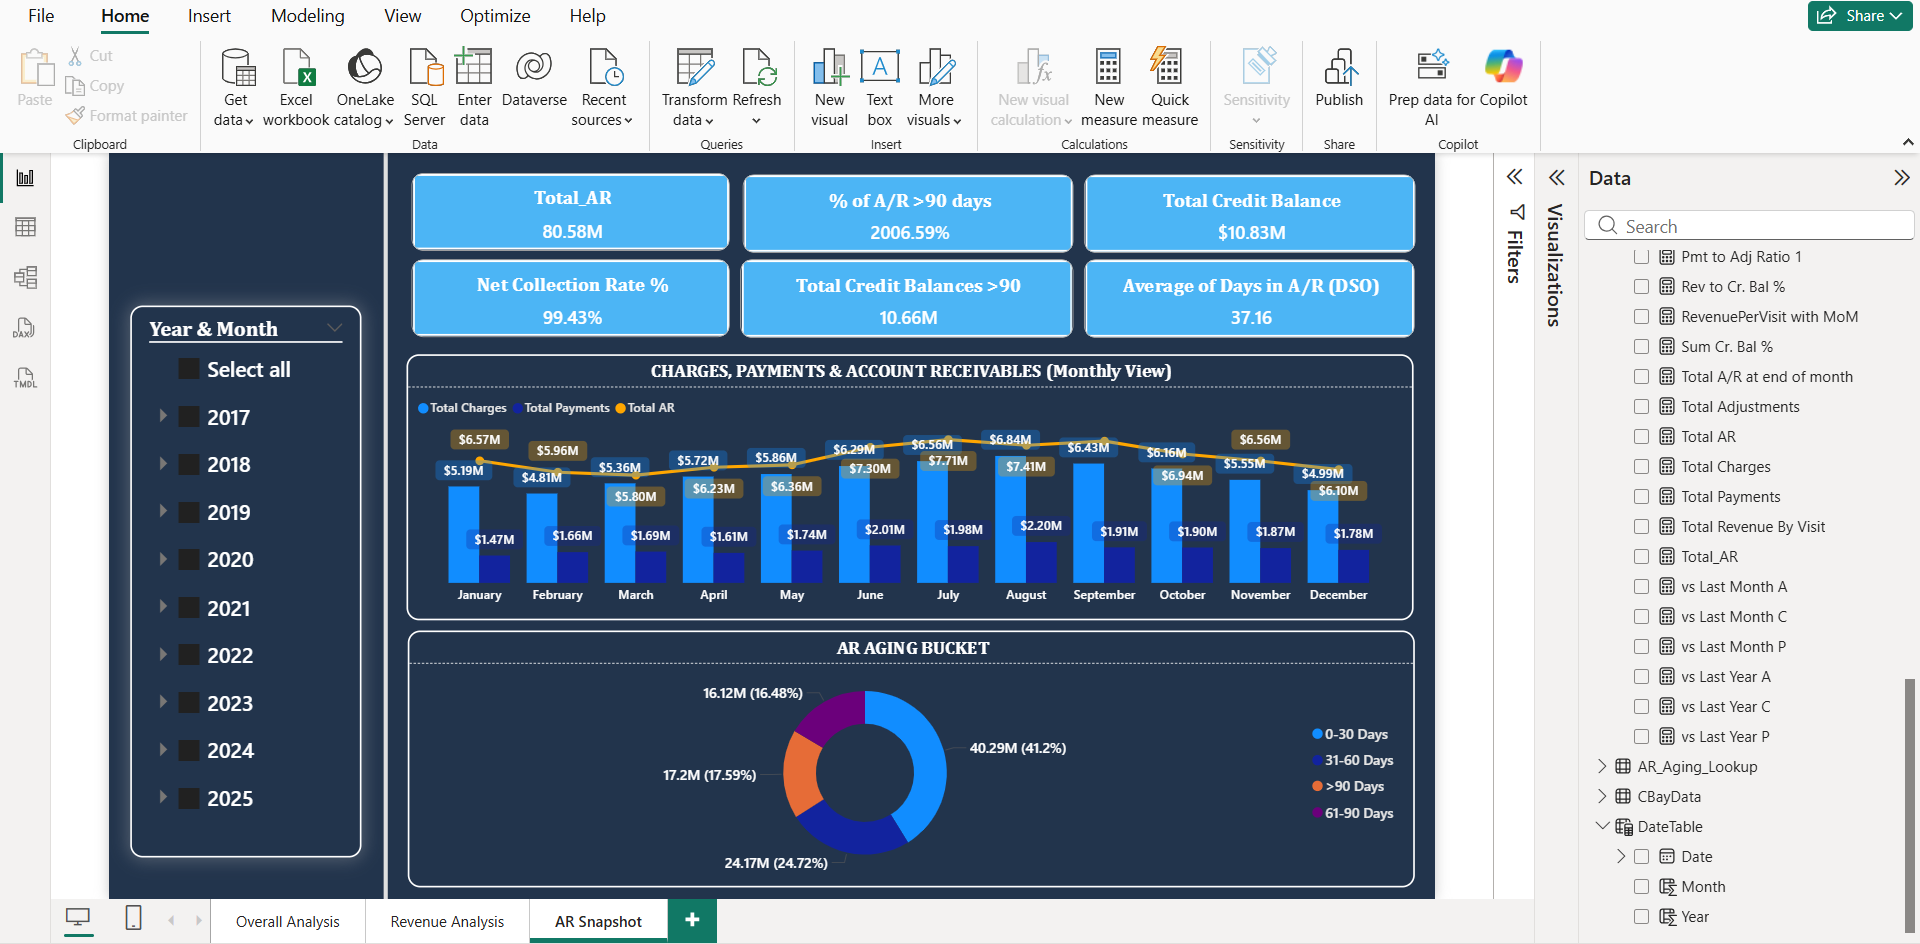

Layout of this report page (visuals, bound fields, positions):
{"tool":"powerbi","page":{"name":"AR Snapshot","canvas":[1280,720],"ordinal":2},"visuals":[{"type":"cardVisual","title":"TOTAL CHARGES","fields":{"Data":["CBayData.Total_AR"]},"box":[287.7,19.8,317.5,90.7],"z":0},{"type":"slicer","fields":{"Values":["DateTable.Date.Variation.Date Hierarchy.Year","DateTable.Date.Variation.Date Hierarchy.Month"]},"box":[20.1,147.2,223.1,533.1],"z":1000},{"type":"cardVisual","title":"TOTAL CHARGES","fields":{"Data":["Avg(CBayData.Days in A/R (DSO))"]},"box":[936,102.2,329.8,91],"z":2000},{"type":"cardVisual","title":"TOTAL CHARGES","fields":{"Data":["Sum(CBayData.% A/R over 90 days)"]},"box":[606.2,20.2,329.8,91],"z":3000},{"type":"cardVisual","title":"TOTAL CHARGES","fields":{"Data":["CBayData.Sum Cr. Bal %"]},"box":[936,20.2,330,91],"z":4000},{"type":"cardVisual","title":"TOTAL CHARGES","fields":{"Data":["CBayData.Net Collection Rate %"]},"box":[287.7,102,317.5,90.7],"z":5000},{"type":"cardVisual","title":"TOTAL CHARGES","fields":{"Data":["Sum(CBayData.Credit Balances >90 (Cr. Bal>90))"]},"box":[604.8,102.2,331.2,91],"z":6000},{"type":"lineClusteredColumnComboChart","title":"CHARGES, PAYMENTS & ACCOUNT RECEIVABLES (Monthly View)","fields":{"Category":["DateTable.Date.Variation.Date Hierarchy.Year","DateTable.Date.Variation.Date Hierarchy.Month"],"Y":["CBayData.Total Charges","CBayData.Total Payments"],"Y2":["CBayData.Total AR"]},"box":[286.8,194.1,971.8,256.9],"z":7000},{"type":"shape","box":[260.6,0,13,720],"z":8000},{"type":"donutChart","title":"AR AGING BUCKET","fields":{"Category":["AR_Aging_Lookup.Aging Bucket"],"Y":["CBayData.AR Aging Bucket Value"]},"box":[288.2,460.9,971.8,248.3],"z":9000}]}

Visuals, with their boxes on the page's 1280x720 design canvas (x1, y1, x2, y2). These are canvas units, not pixel positions in the 1920x944 screenshot, which may show the page scaled, cropped or inside an application window:
"TOTAL CHARGES" cardVisual: (left=288, top=20, right=605, bottom=110)
slicer - DateTable.Date.Variation.Date Hierarchy.Year x DateTable.Date.Variation.Date Hierarchy.Month: (left=20, top=147, right=243, bottom=680)
"TOTAL CHARGES" cardVisual: (left=936, top=102, right=1266, bottom=193)
"TOTAL CHARGES" cardVisual: (left=606, top=20, right=936, bottom=111)
"TOTAL CHARGES" cardVisual: (left=936, top=20, right=1266, bottom=111)
"TOTAL CHARGES" cardVisual: (left=288, top=102, right=605, bottom=193)
"TOTAL CHARGES" cardVisual: (left=605, top=102, right=936, bottom=193)
"CHARGES, PAYMENTS & ACCOUNT RECEIVABLES (Monthly View)" lineClusteredColumnComboChart: (left=287, top=194, right=1259, bottom=451)
shape: (left=261, top=0, right=274, bottom=720)
"AR AGING BUCKET" donutChart: (left=288, top=461, right=1260, bottom=709)
